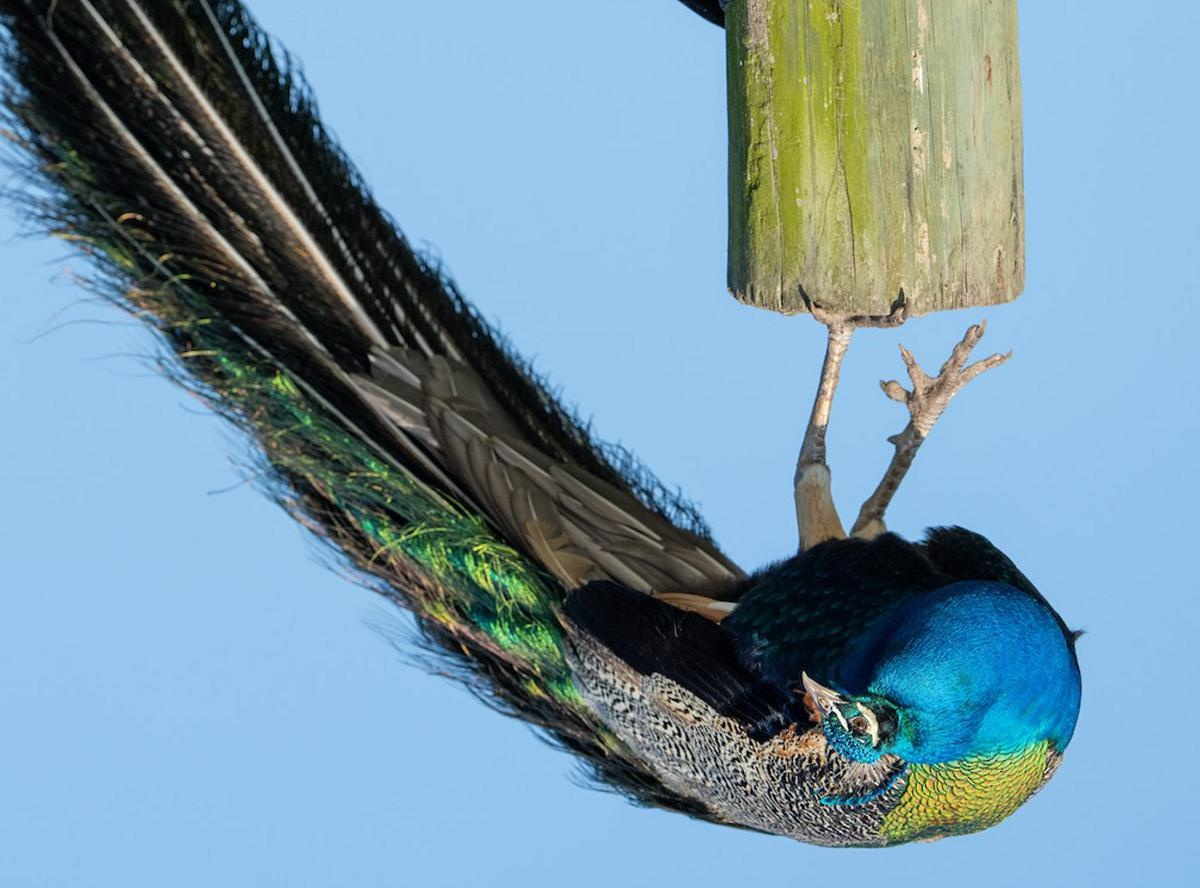peacock: (113, 55, 1101, 854)
